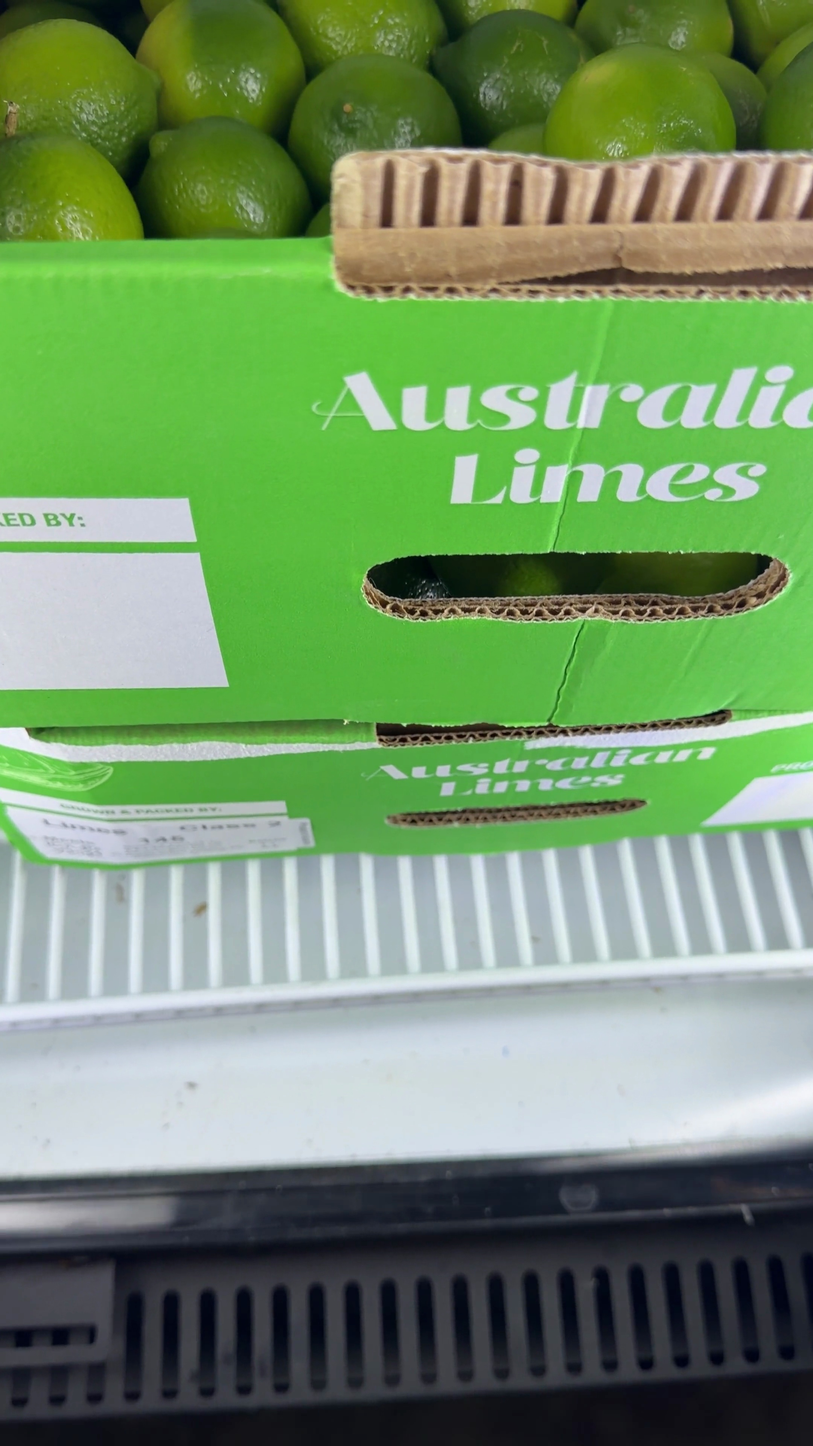lime: (288, 56, 460, 200), (0, 20, 157, 174), (137, 0, 305, 135), (545, 45, 735, 160), (136, 117, 311, 238), (433, 11, 582, 145), (0, 134, 142, 241), (279, 0, 447, 76), (575, 0, 733, 55), (597, 552, 760, 597), (692, 52, 766, 150), (432, 554, 566, 598), (729, 0, 813, 68), (760, 47, 813, 151), (438, 0, 577, 38), (758, 21, 813, 90), (0, 0, 99, 38), (489, 122, 545, 155), (112, 7, 148, 55), (81, 0, 132, 25), (305, 203, 331, 238), (141, 0, 171, 22)
